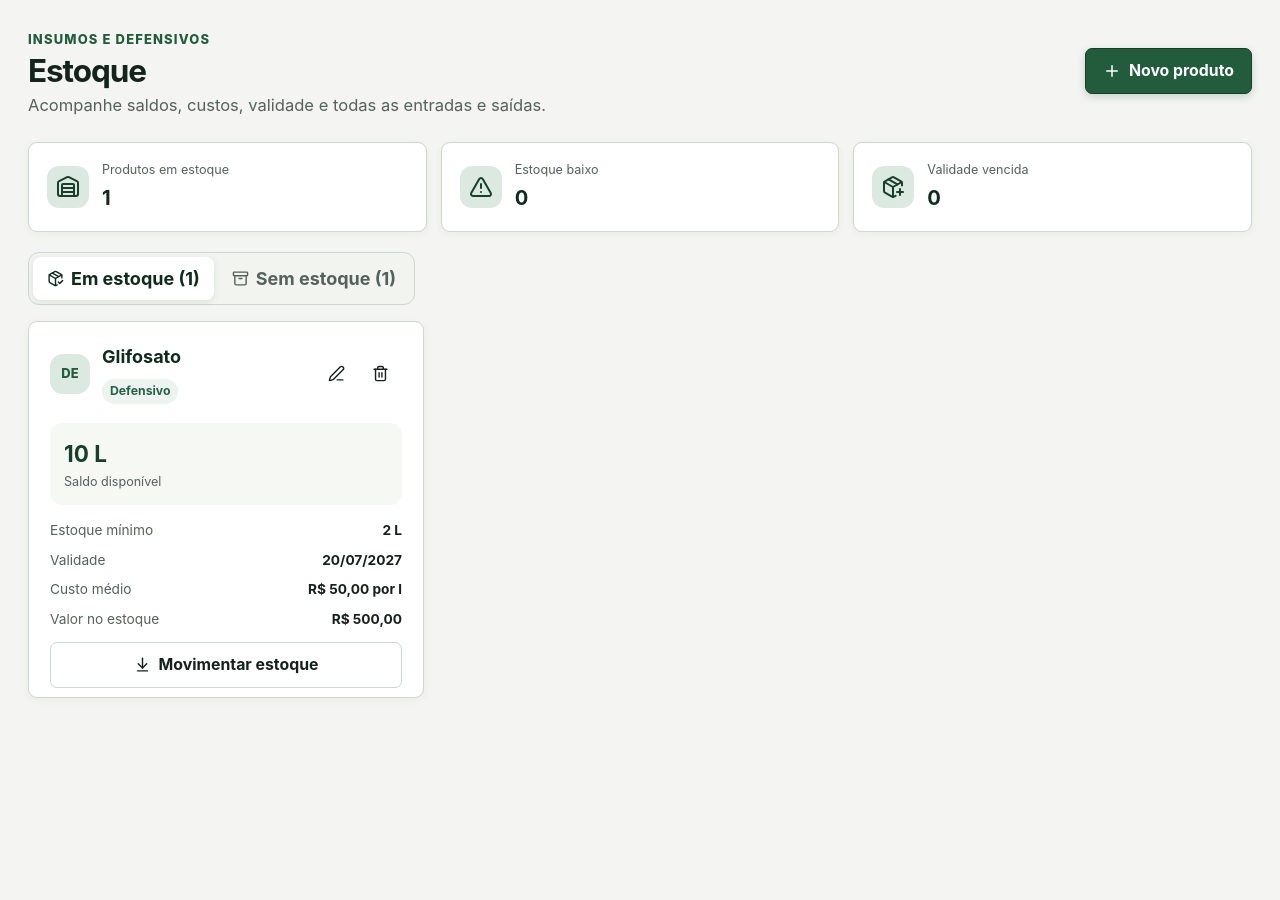
Test case: InventoryPage › oculta produtos zerados sem apagar o cadastro e permite repor
Expected: the heading "Glifosato" is shown, [102, 343, 181, 370]
Expected: the text "Ureia" is not shown
Click the tab "Sem estoque (1)": [314, 279] box [218, 257, 410, 300]
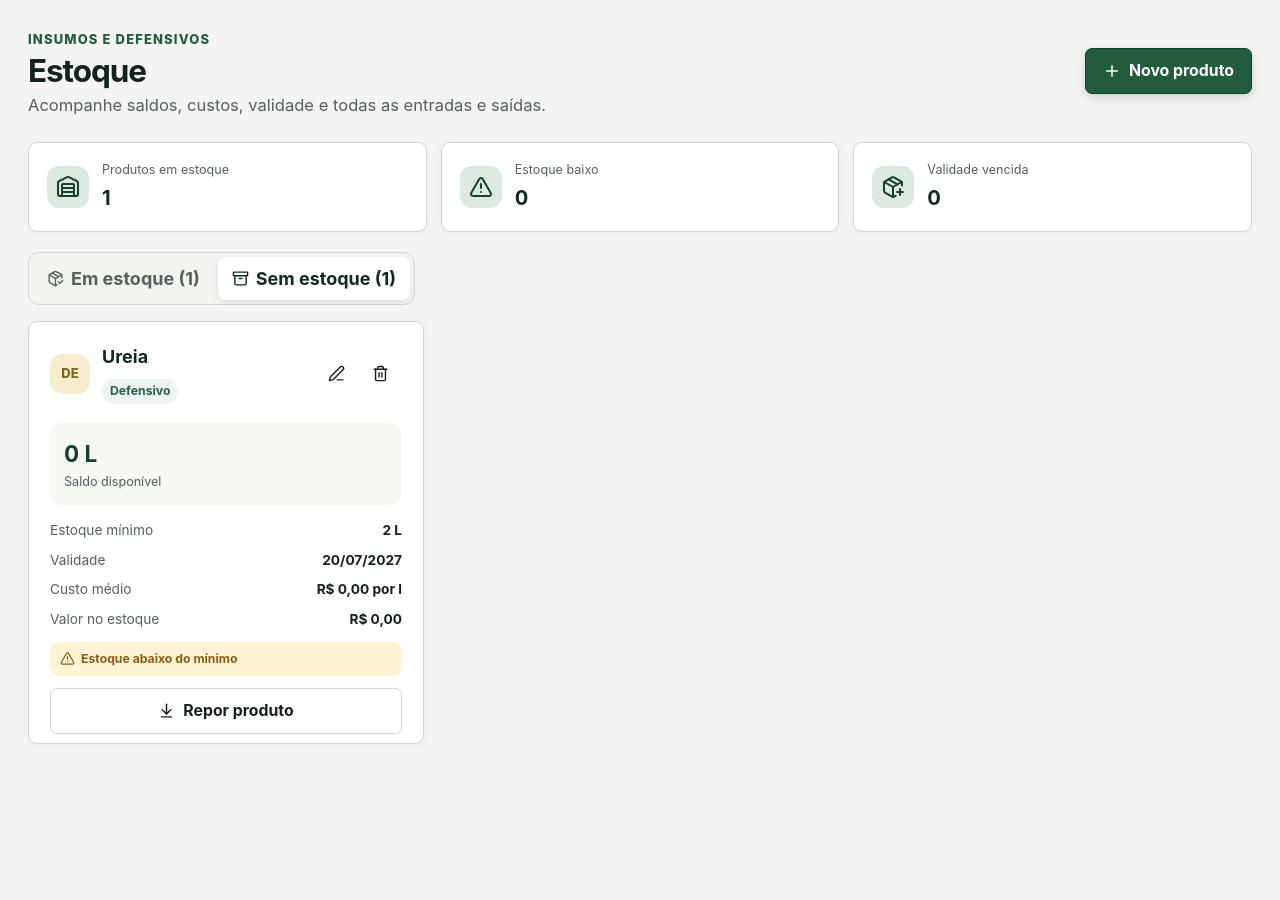
Expected: the heading "Ureia" is shown, [102, 346, 148, 367]
Expected: the heading "Glifosato" is gone
Click the button "Repor produto": [226, 711] box [50, 688, 402, 734]
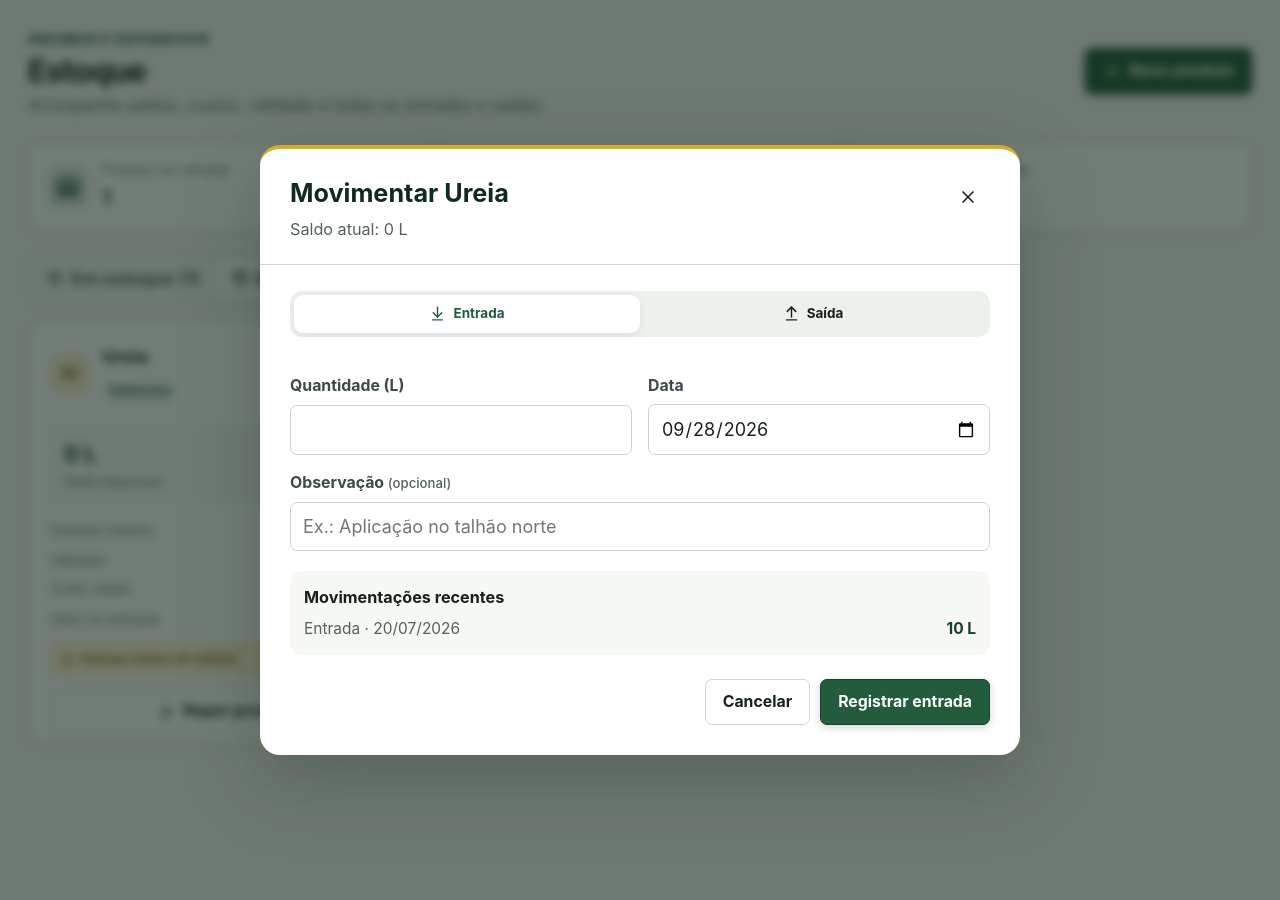
Expected: the heading "Movimentar Ureia" is shown, [290, 175, 509, 213]
